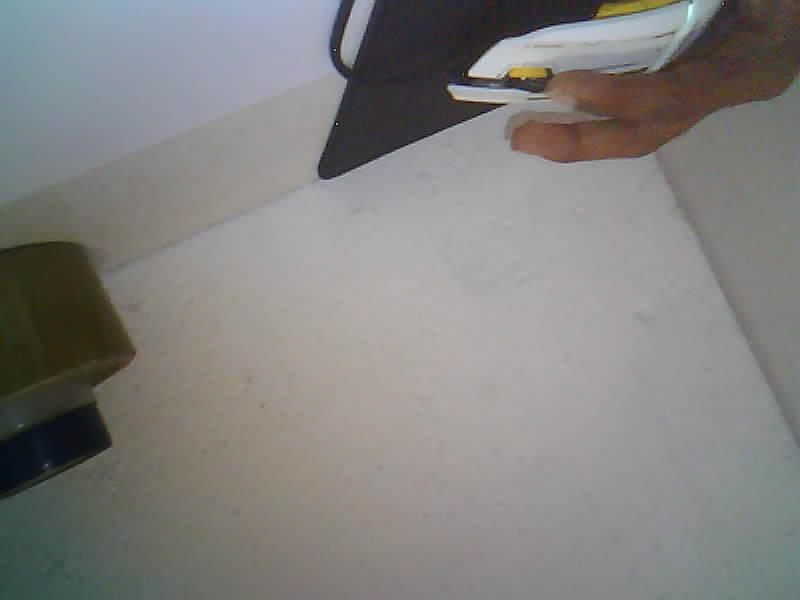non-biodegradable: (448, 0, 724, 111)
